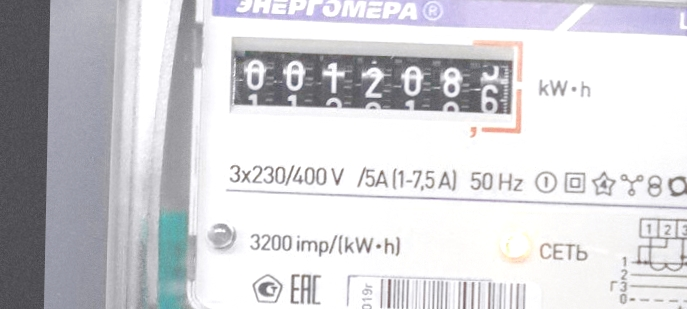0: (399, 61, 425, 97), (283, 55, 306, 92), (245, 54, 265, 91)
1: (324, 58, 341, 95)
2: (360, 63, 387, 99)
6: (477, 79, 501, 114)
8: (438, 63, 462, 100)
screen: (219, 24, 533, 148)
